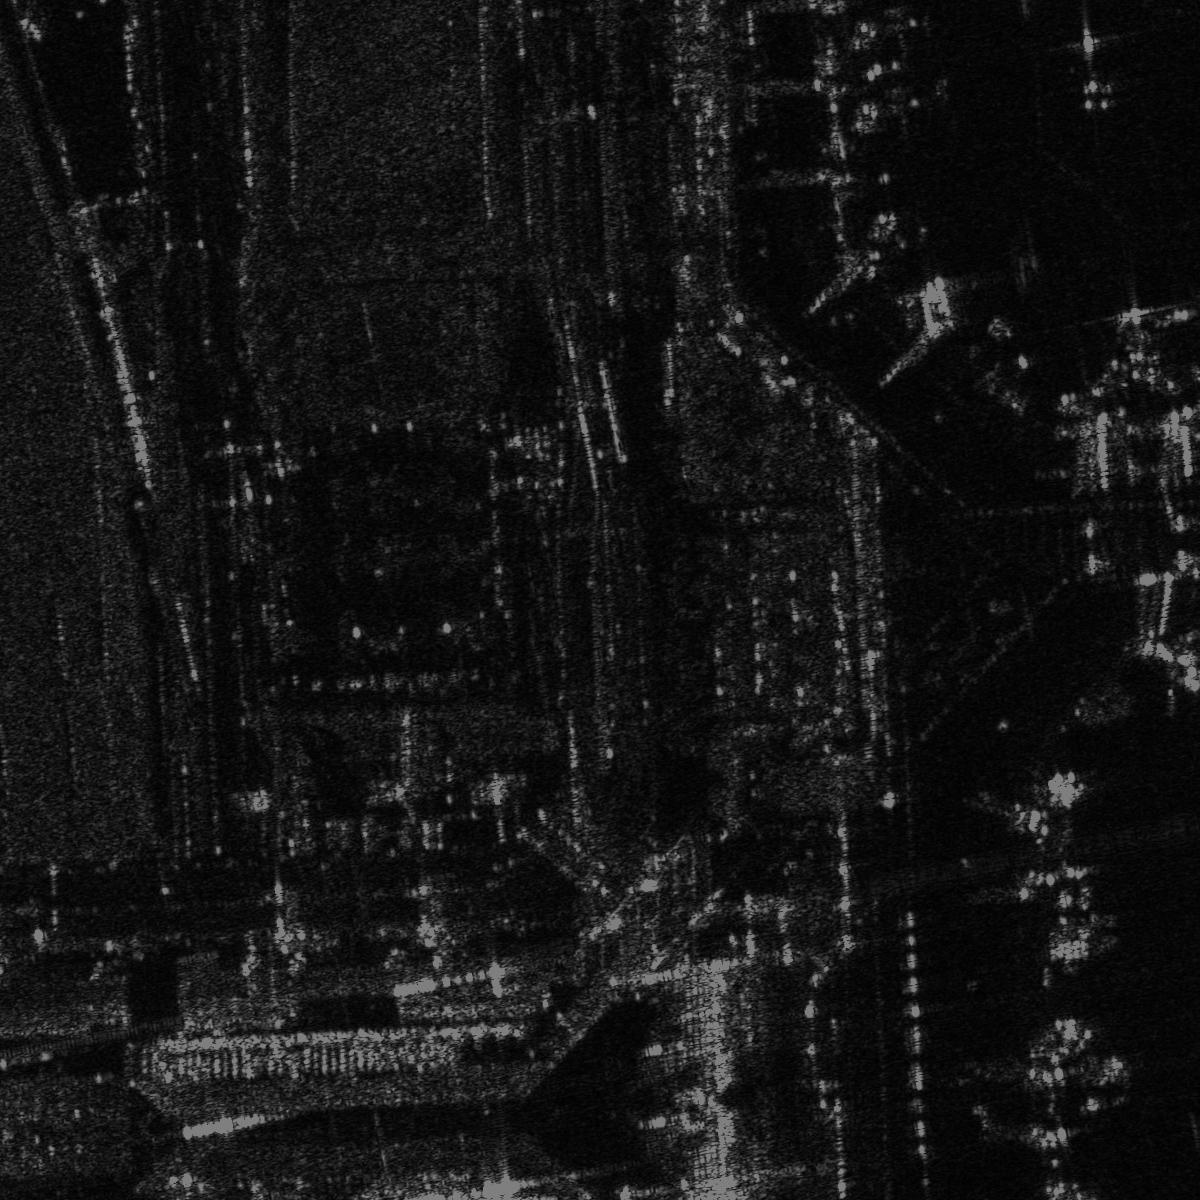A220: (860, 73, 962, 143), (1104, 296, 1176, 395)
A320/321: (1024, 1007, 1131, 1116)
Boeing737: (1066, 25, 1134, 116)
